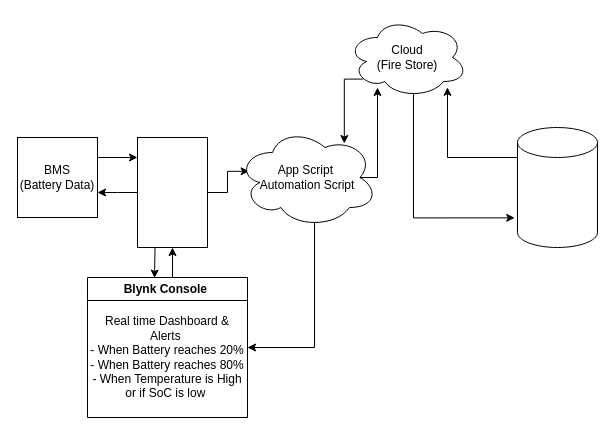
This 615x435 diagram has some shape labels left out. The shapes that lost their labels are listed below. From the top down, each one's centre as x and y in pixels, then its label:
At point (172, 192): "ESP32 or IOT Device".
At point (557, 187): "IOT Main Server".
